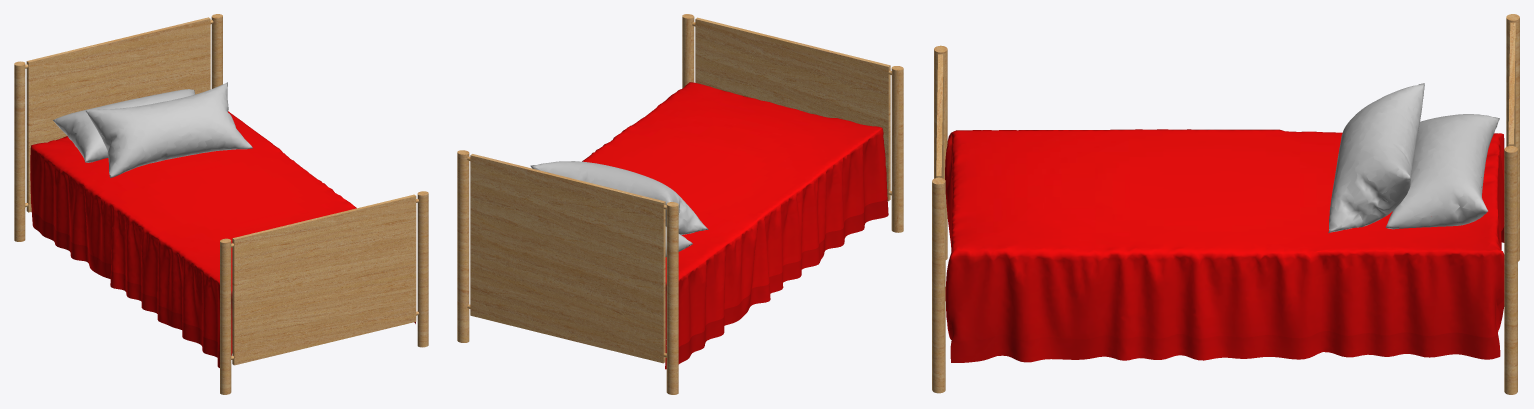
File: cama2.obj
The picture shows the model from 3 angles, left to right: view 1: azimuth 30°, elevation 25°; view 2: azimuth 150°, elevation 25°; view 3: azimuth 270°, elevation 25°; orthographic projection. The views are drawn at different scales.
Parts seen in each view (by area): view 1: savanna, headboard_leg, headboard, pillow02, pillow01; view 2: savanna, headboard, headboard_leg, pillow02; view 3: savanna, pillow02, pillow01, headboard, headboard_leg.
Boxes of the visible parts, left/top/right/bottom form: savanna: left=30, top=111, right=415, bottom=367; headboard_leg: left=220, top=191, right=428, bottom=394; headboard: left=14, top=14, right=222, bottom=241; pillow02: left=86, top=82, right=252, bottom=177; pillow01: left=53, top=89, right=194, bottom=162; savanna: left=582, top=82, right=888, bottom=369; headboard: left=457, top=150, right=678, bottom=394; headboard_leg: left=682, top=14, right=903, bottom=232; pillow02: left=530, top=161, right=708, bottom=234; savanna: left=945, top=129, right=1504, bottom=362; pillow02: left=1328, top=83, right=1424, bottom=232; pillow01: left=1385, top=114, right=1499, bottom=229; headboard: left=1504, top=14, right=1519, bottom=394; headboard_leg: left=932, top=45, right=947, bottom=393.
Size of the model in its own units: 25.57 by 20.58 by 45.25.
